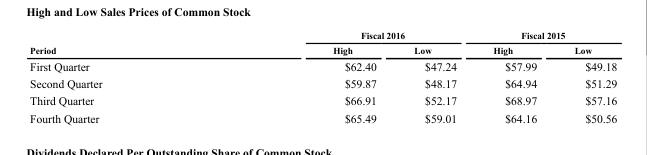table: (29, 29, 616, 124)
table column: (29, 29, 216, 124), (216, 29, 394, 124), (394, 29, 474, 124), (474, 29, 554, 124), (554, 29, 616, 124)
table column header: (29, 29, 616, 56)
table row: (29, 56, 616, 74), (29, 91, 616, 109), (29, 74, 616, 91), (29, 41, 616, 56), (29, 109, 616, 124), (29, 29, 616, 41)
table spanning cell: (29, 29, 216, 56), (216, 29, 474, 41), (474, 29, 616, 41)
